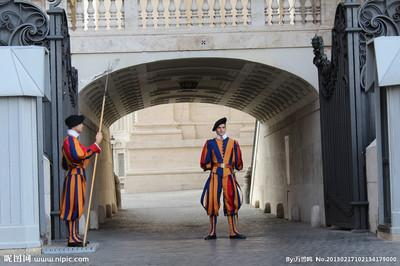up: (193, 112, 256, 241), (56, 113, 102, 248)
